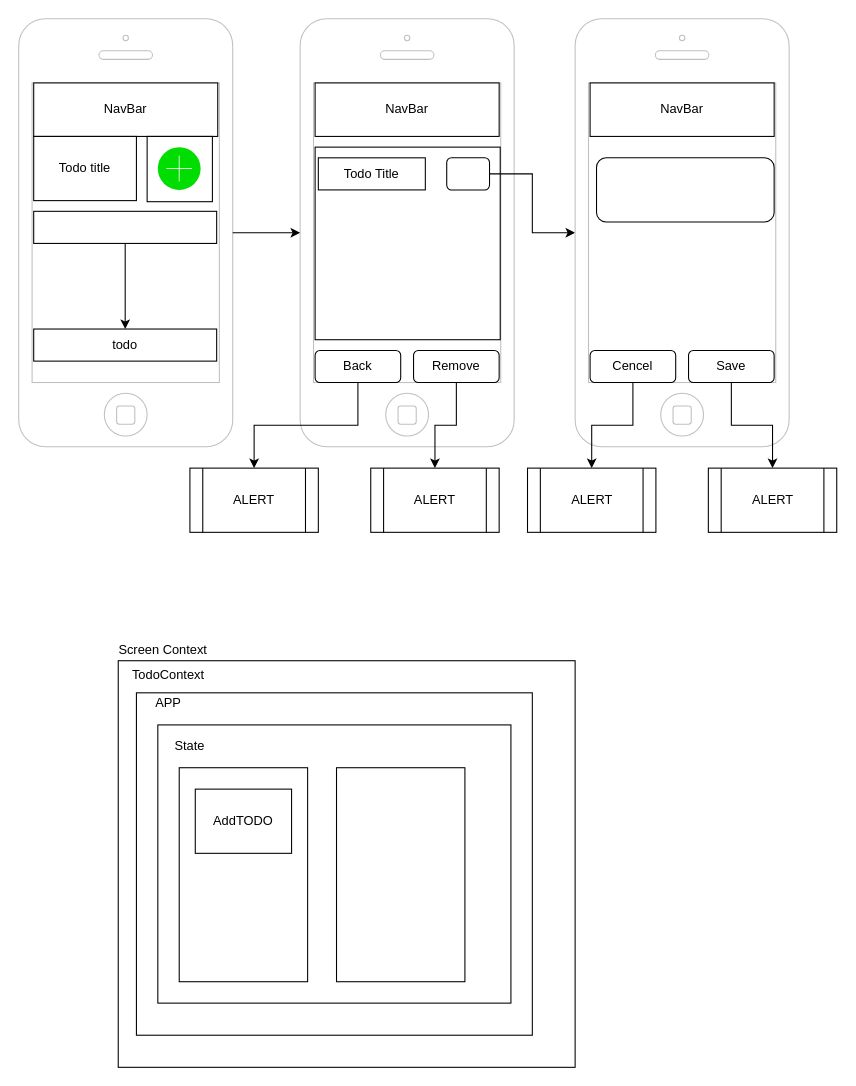
The diagram is 856 pixels wide and 1086 high, and some of its shapes have lost their labels. The box of each missing label's shape, as (x1, y1, x2, y2) in pixels:
EDIT: (446, 157, 490, 190)
Main screen: (178, 767, 308, 982)
Text input: (595, 157, 774, 222)
Todo list: (33, 210, 217, 243)
Todo screen: (335, 767, 465, 982)
